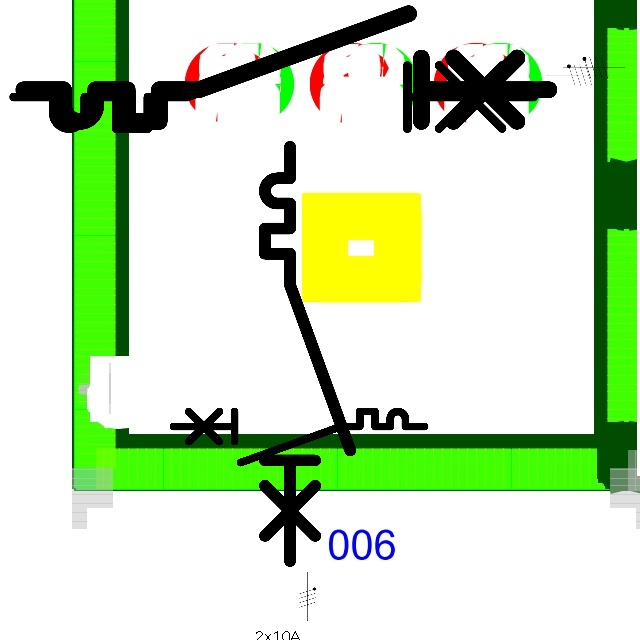interruptor_termomagnetico: (10, 0, 562, 135), (0, 8, 547, 142), (254, 136, 360, 572), (167, 405, 431, 469)
